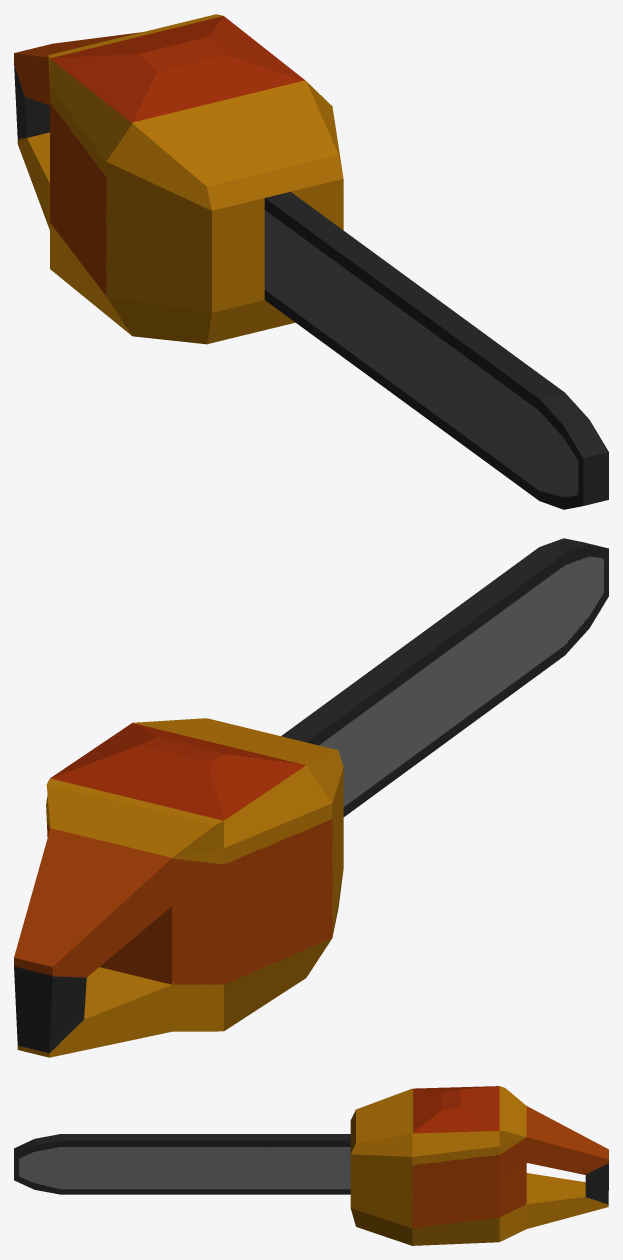
The model's file is chainsaw.obj.
The picture shows the model from 3 angles, top to bottom: view 1: azimuth 30°, elevation 25°; view 2: azimuth 150°, elevation 25°; view 3: azimuth 270°, elevation 25°; orthographic projection. The views are drawn at different scales.
Parts seen in each view (by area): view 1: Cube; view 2: Cube; view 3: Cube.
Boxes of the visible parts, x1=… form: Cube: x1=14, y1=14, x2=608, y2=509; Cube: x1=14, y1=538, x2=608, y2=1057; Cube: x1=14, y1=1086, x2=608, y2=1245.
Bounding box in the file's own units: 2.6 × 2.6 × 11.21.
